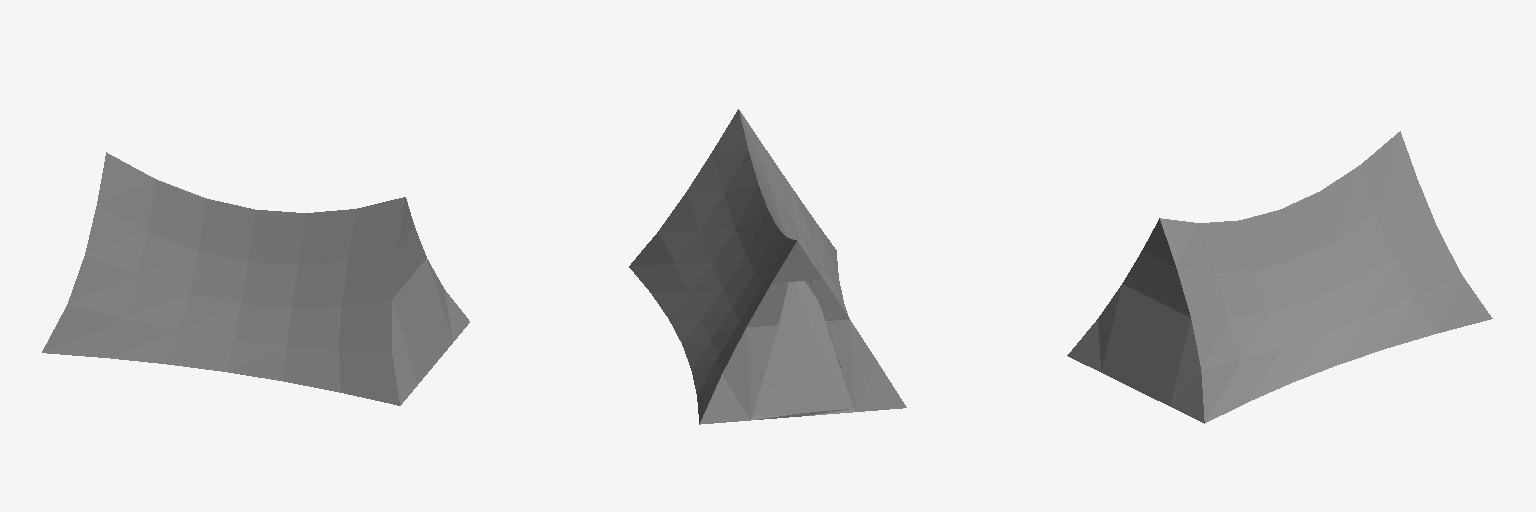
File: TiendaCampanya.obj
3 views of the same model, side by side, from view 1: azimuth 30°, elevation 25°; view 2: azimuth 150°, elevation 25°; view 3: azimuth 270°, elevation 25° (orthographic).
Visible parts, largest first — view 1: Box146; view 2: Box146; view 3: Box146.
Part boxes in pixels (bbox=[...]): Box146: bbox=[42, 152, 469, 405]; Box146: bbox=[629, 109, 906, 424]; Box146: bbox=[1067, 131, 1492, 423].
Size of the model in its own units: 15.01 by 6.6 by 15.65.